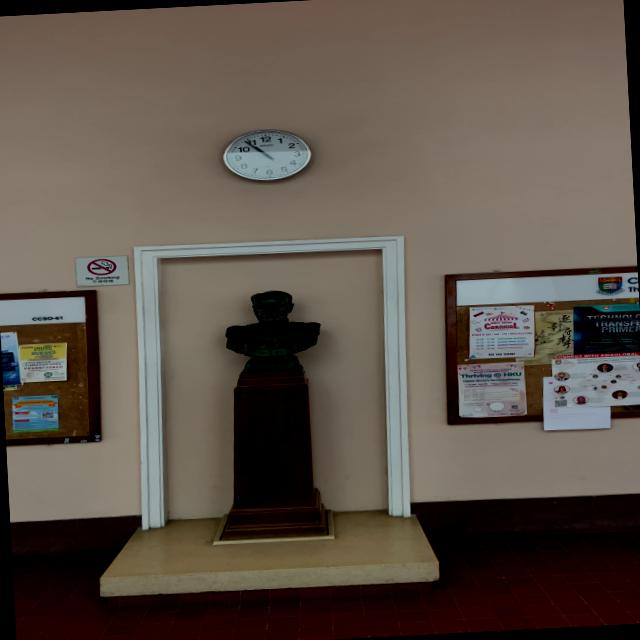statues: (218, 286, 328, 380)
